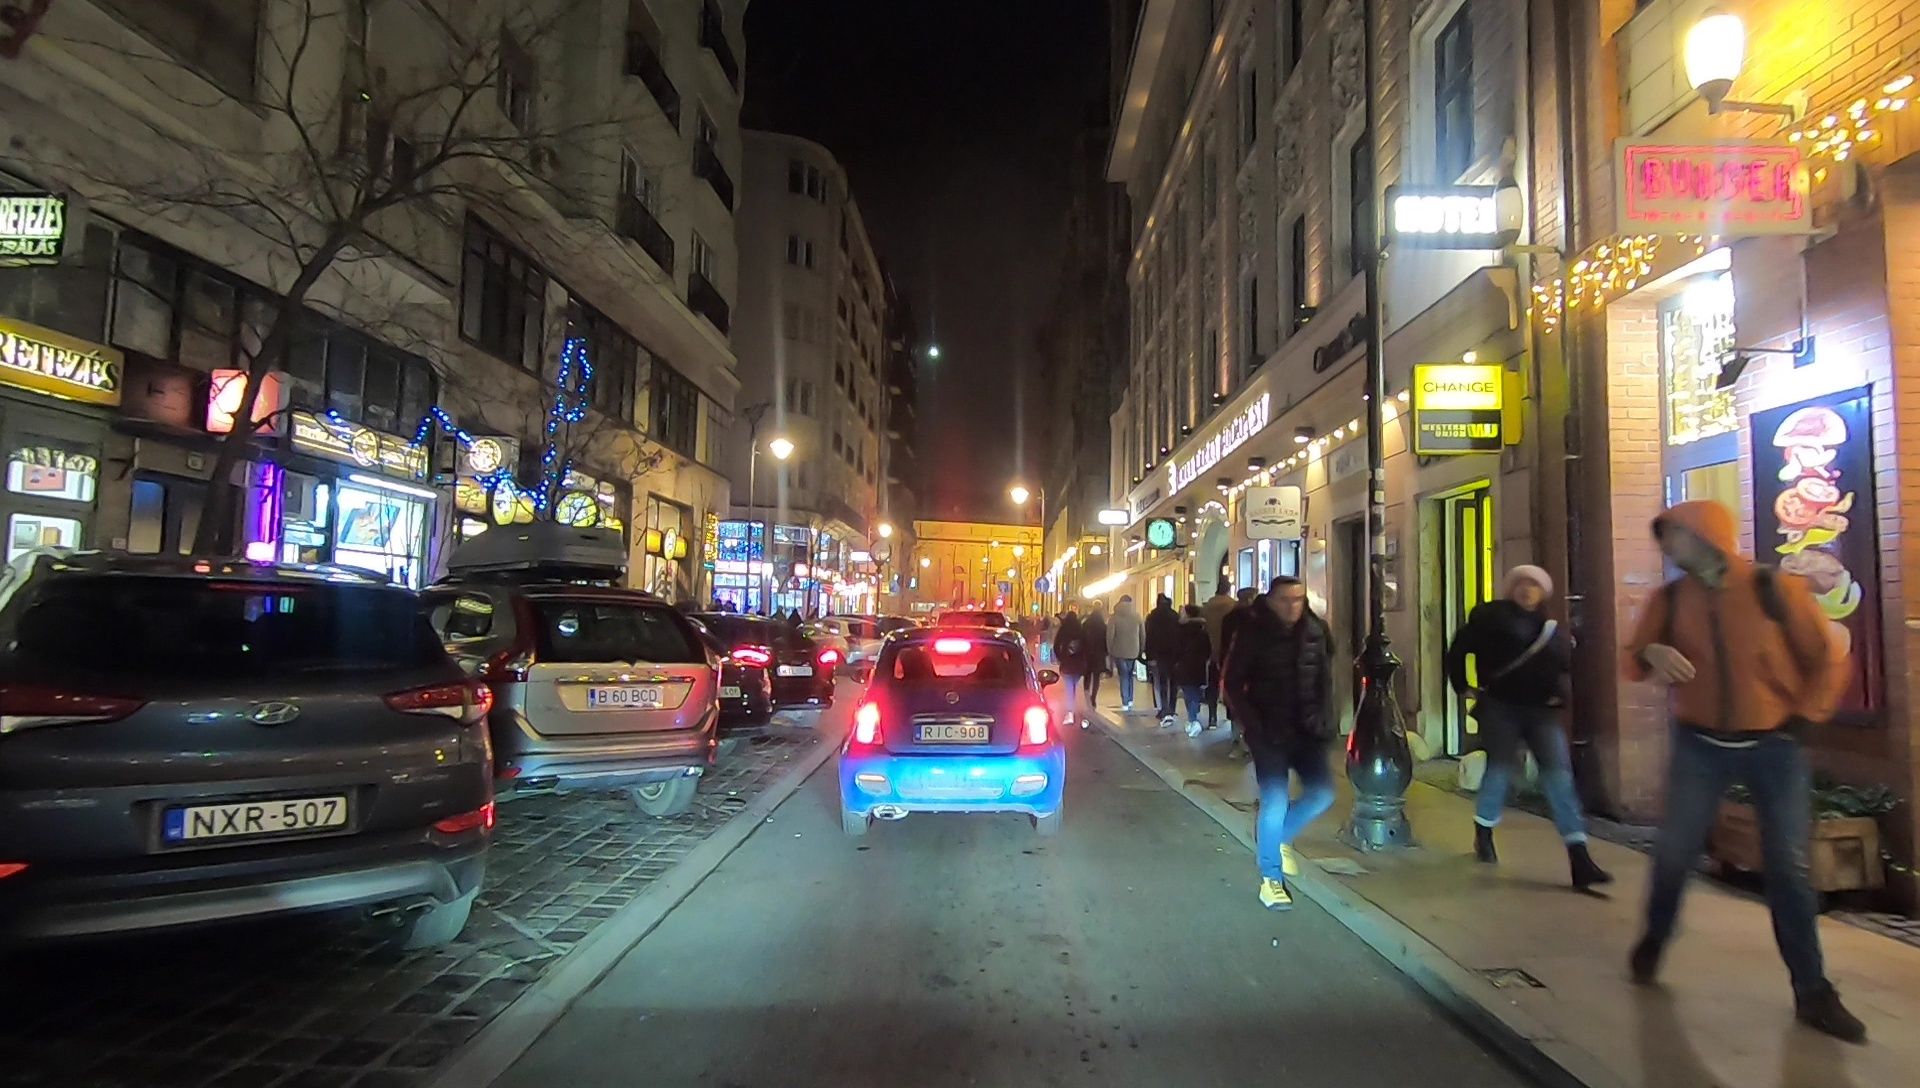person: (1636, 499, 1880, 1050), (1465, 556, 1612, 889), (1239, 580, 1339, 904), (1144, 586, 1177, 722), (1206, 576, 1237, 718), (1173, 597, 1204, 736), (1109, 587, 1141, 712), (1059, 605, 1082, 721), (1083, 599, 1109, 703)
